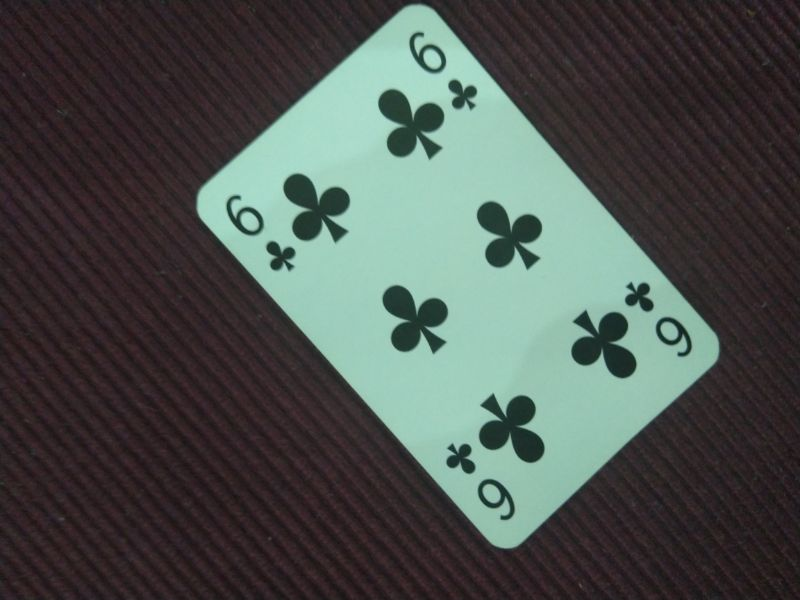6c: (442, 437, 519, 524), (405, 27, 481, 114), (224, 190, 299, 277), (622, 277, 697, 361)
